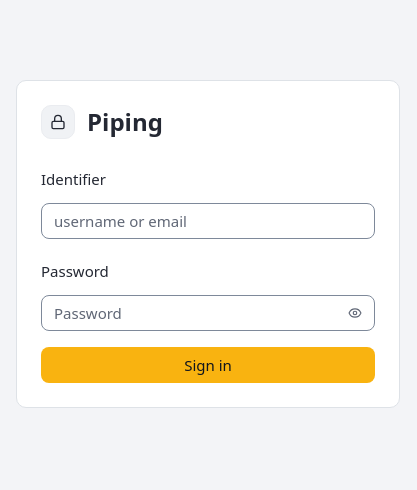
Test case: AuthLogin › does not show raw backend text for unmapped login errors
The width and height of the screenshot is (417, 490).
Type "user@example.test" into the field with placeholder "username or email" at x=208, y=221, box [41,203,375,239]
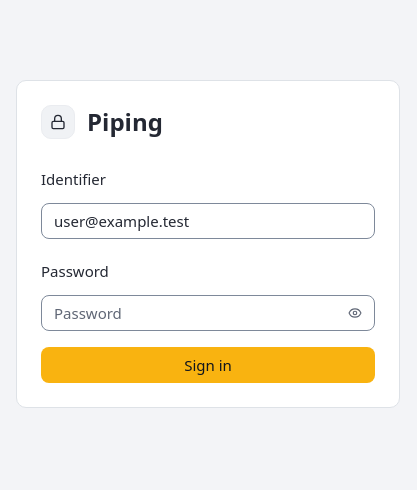
Type "secret-password" into the password field with placeholder "Password" at x=208, y=313, box [41,295,375,331]
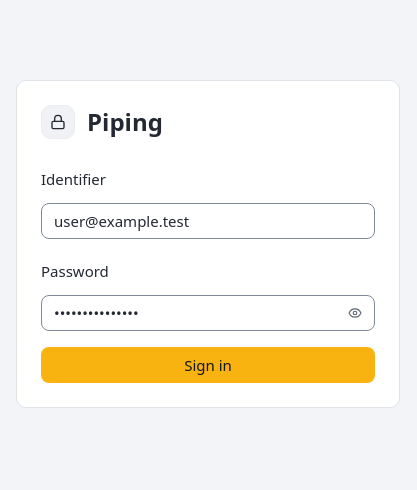
Click the button "Sign in" at x=208, y=365, box [41,347,375,383]
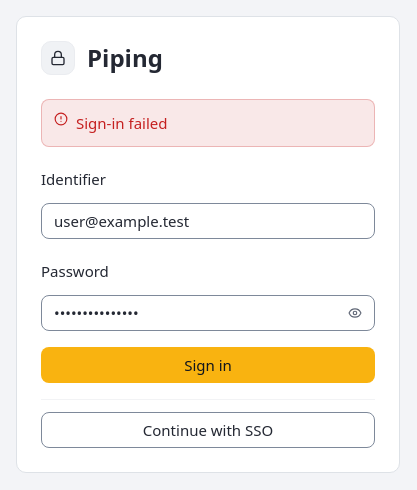
Expected: the text "Sign-in failed" is shown, [41,98,375,146]
